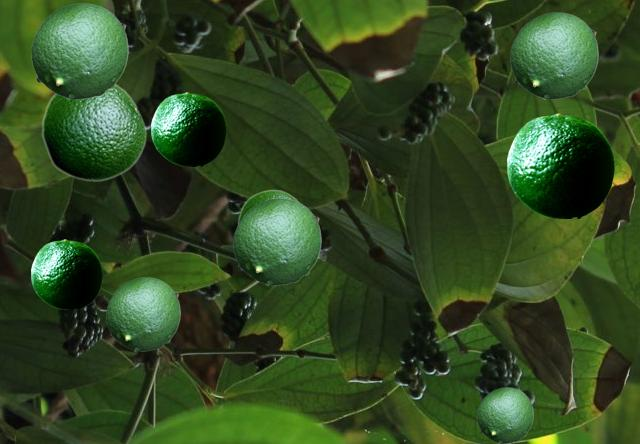calamansi: (507, 113, 613, 217), (41, 83, 146, 181), (31, 3, 127, 98), (233, 198, 320, 284), (510, 12, 597, 98), (151, 92, 225, 165), (106, 277, 179, 350), (31, 239, 101, 308), (477, 387, 532, 442), (237, 189, 299, 224)
